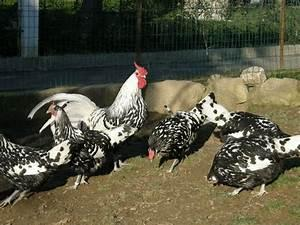hen: (26, 60, 149, 189), (204, 135, 300, 202), (141, 100, 218, 175)
